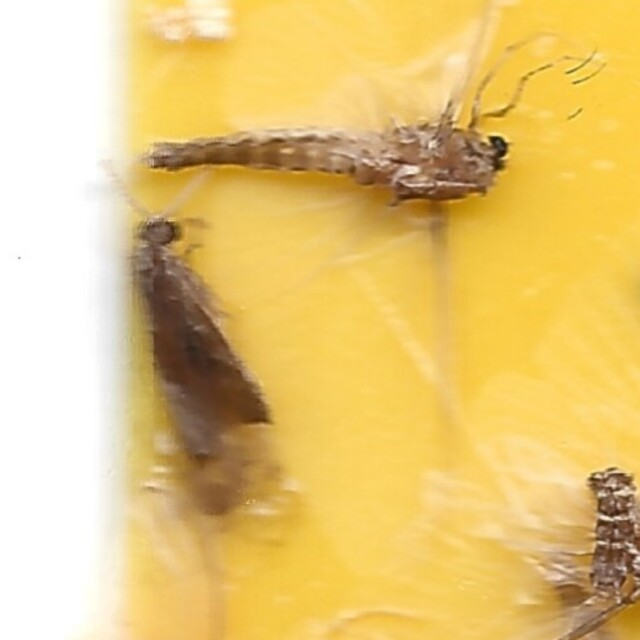Isoptera: (130, 215, 284, 516)
Nematocera: (153, 124, 510, 208)
